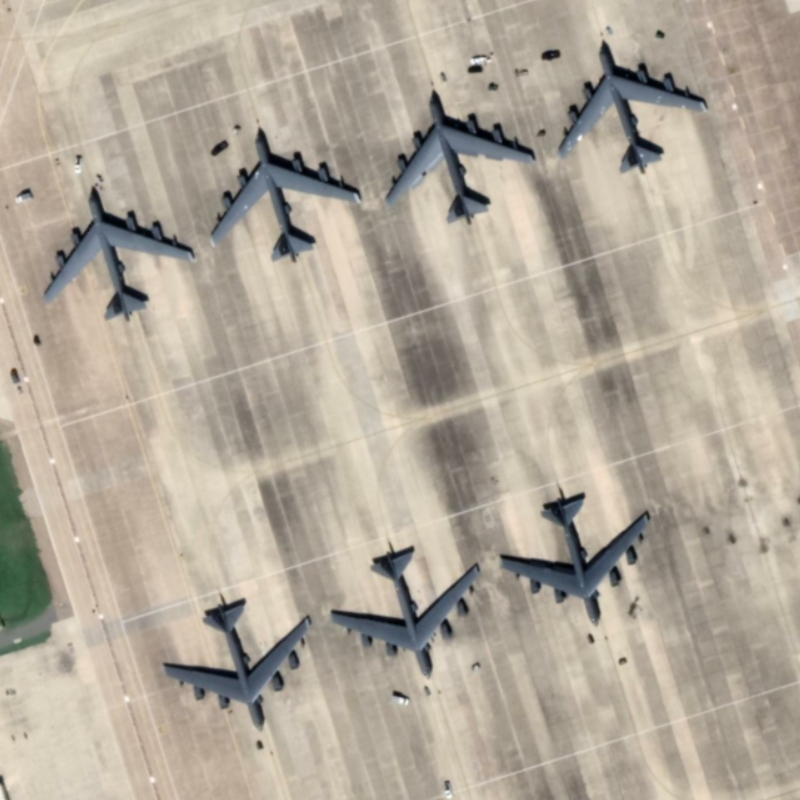A8: (201, 117, 365, 275), (374, 80, 543, 233), (492, 481, 659, 633), (32, 182, 203, 330), (324, 539, 488, 686), (552, 39, 713, 184), (155, 593, 319, 735)
